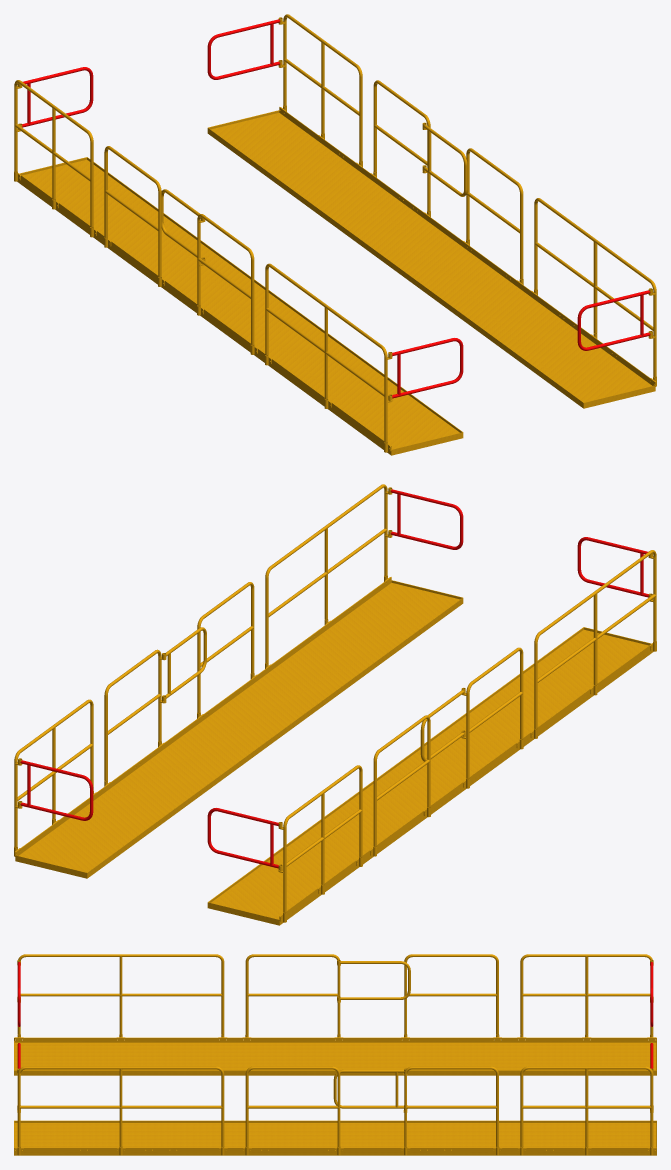
The model's file is ZouTai_20250912.fbx.
The picture shows the model from 3 angles, top to bottom: view 1: azimuth 30°, elevation 25°; view 2: azimuth 150°, elevation 25°; view 3: azimuth 270°, elevation 25°; orthographic projection. The views are drawn at different scales.
Parts seen in each view (by area): view 1: 实体1_5.002, 实体1_7_1, SOLID1_1.001, SOLID1_44, SOLID1_45, SOLID1_48_1, 护栏1, 护栏3, 护栏2, 护栏4; view 2: 实体1_5.002, 实体1_7_1, SOLID1_1.001, SOLID1_44, SOLID1_45, SOLID1_48_1, 护栏3, 护栏1, 护栏4, 护栏2; view 3: 实体1_7_1, 实体1_5.002, SOLID1_45, SOLID1_1.001, SOLID1_48_1, SOLID1_44, SOLID1_20, 实体1_25, SOLID1_37_1, 实体1_19_1, SOLID1_52, SOLID1_6 (+7 smaller).
Part boxes in pixels (x1,y1,x2,y2): 实体1_5.002: (211,113,651,402); 实体1_7_1: (22,159,459,449); SOLID1_1.001: (17,173,391,455); SOLID1_44: (207,128,583,408); SOLID1_45: (279,107,655,385); SOLID1_48_1: (87,157,462,432); 护栏1: (577,290,650,350); 护栏3: (207,19,280,79); 护栏2: (392,338,463,398); 护栏4: (22,67,93,127); 实体1_5.002: (19,583,459,872); 实体1_7_1: (211,629,648,919); SOLID1_1.001: (279,643,653,925); SOLID1_44: (87,598,463,878); SOLID1_45: (15,577,391,855); SOLID1_48_1: (208,627,583,902); 护栏3: (20,760,93,820); 护栏1: (390,489,463,549); 护栏4: (207,808,278,868); 护栏2: (577,537,648,597); 实体1_7_1: (14,1042,656,1070); 实体1_5.002: (14,1123,656,1150); SOLID1_45: (14,1147,656,1155); SOLID1_1.001: (14,1037,656,1042); SOLID1_48_1: (14,1070,656,1075); SOLID1_44: (14,1120,656,1122); SOLID1_20: (26,1066,215,1069); 实体1_25: (333,1069,404,1108); SOLID1_37_1: (26,954,215,956); 实体1_19_1: (340,961,410,999); SOLID1_52: (528,1066,644,1069); SOLID1_6: (19,1105,120,1108).
Size of the model in its own units: 310 by 115 by 742.
3 materials, 3 textured.
